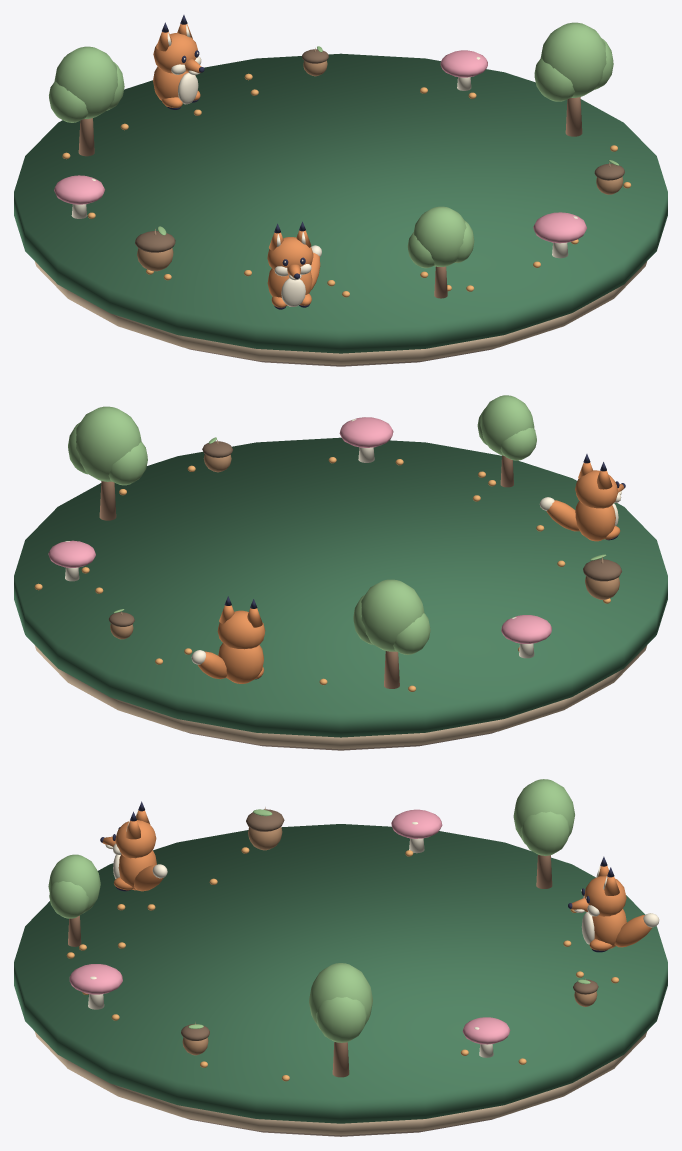
The model's file is world.glb.
3 views of the same model, one above another, from view 1: azimuth 30°, elevation 25°; view 2: azimuth 150°, elevation 25°; view 3: azimuth 270°, elevation 25° (orthographic).
Parts seen in each view (by area): view 1: Cone, Cone.001, tree.001, tree.002, tree.003, fox.002, fox.001, mushroom.003, mushroom.002, acorn.002, mushroom.001, acorn.003 (+2 smaller); view 2: Cone, Cone.001, tree.001, tree.002, fox.001, fox.002, tree.003, mushroom.003, mushroom.002, acorn.002, mushroom.001, acorn.003 (+2 smaller); view 3: Cone, Cone.001, tree.001, tree.002, fox.001, fox.002, tree.003, mushroom.003, mushroom.002, acorn.002, mushroom.001, acorn.003 (+2 smaller).
Part boxes in pixels (bbox=[...]): Cone: bbox=[14, 53, 667, 353]; Cone.001: bbox=[34, 261, 647, 365]; tree.001: bbox=[534, 22, 613, 136]; tree.002: bbox=[49, 46, 124, 156]; tree.003: bbox=[407, 206, 474, 298]; fox.002: bbox=[267, 221, 321, 309]; fox.001: bbox=[153, 15, 204, 109]; mushroom.003: bbox=[533, 212, 586, 258]; mushroom.002: bbox=[54, 175, 104, 218]; acorn.002: bbox=[135, 226, 175, 271]; mushroom.001: bbox=[440, 50, 487, 90]; acorn.003: bbox=[594, 160, 624, 194]; Cone: bbox=[14, 437, 667, 737]; Cone.001: bbox=[34, 645, 647, 749]; tree.001: bbox=[68, 406, 147, 520]; tree.002: bbox=[353, 579, 430, 688]; fox.001: bbox=[191, 596, 265, 683]; fox.002: bbox=[539, 454, 625, 541]; tree.003: bbox=[477, 395, 536, 487]; mushroom.003: bbox=[339, 417, 393, 462]; mushroom.002: bbox=[501, 615, 551, 658]; acorn.002: bbox=[583, 554, 621, 599]; mushroom.001: bbox=[48, 540, 95, 581]; acorn.003: bbox=[202, 437, 232, 472]; Cone: bbox=[14, 824, 667, 1123]; Cone.001: bbox=[34, 1031, 647, 1135]; tree.001: bbox=[309, 963, 372, 1077]; tree.002: bbox=[513, 779, 574, 888]; fox.001: bbox=[568, 856, 659, 952]; fox.002: bbox=[100, 801, 167, 891]; tree.003: bbox=[48, 854, 100, 946]; mushroom.003: bbox=[69, 964, 122, 1009]; mushroom.002: bbox=[391, 809, 442, 853]; acorn.002: bbox=[246, 807, 284, 850]; mushroom.001: bbox=[462, 1017, 510, 1057]; acorn.003: bbox=[181, 1022, 209, 1055].
Bounding box in the file's own units: 9.6 × 2.55 × 9.6.
